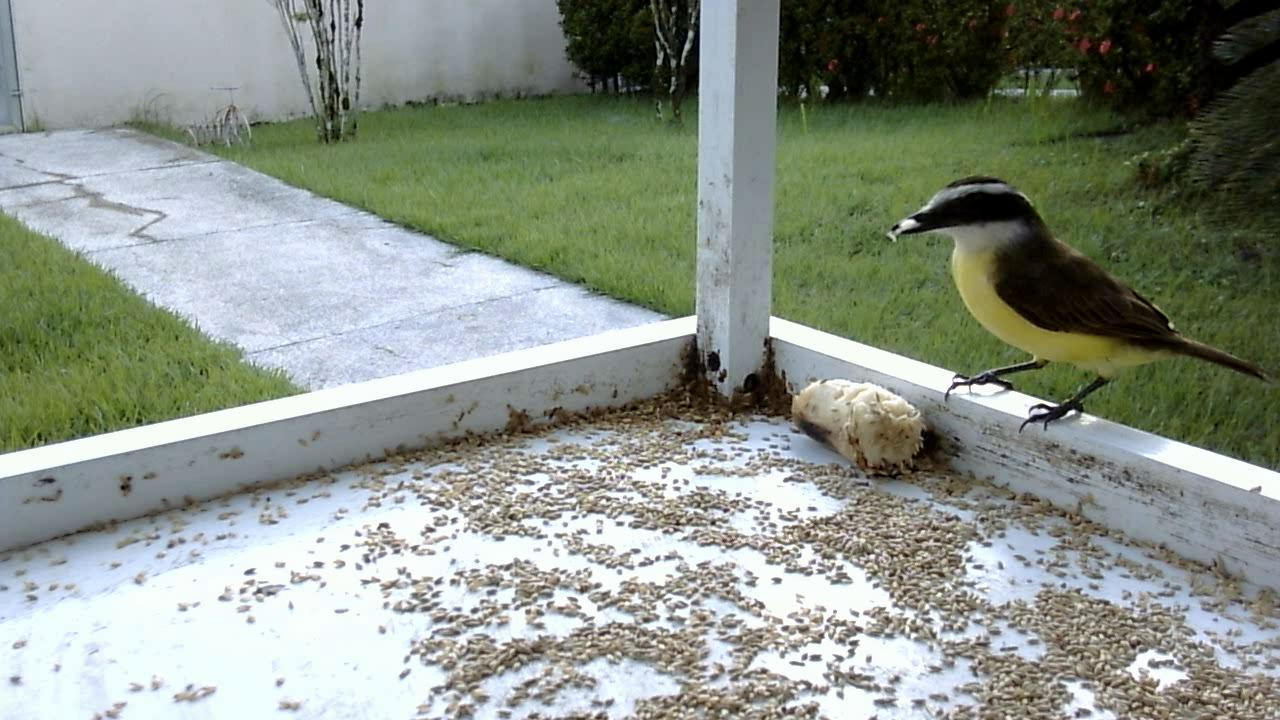bem_te_vi: (873, 167, 1273, 455)
